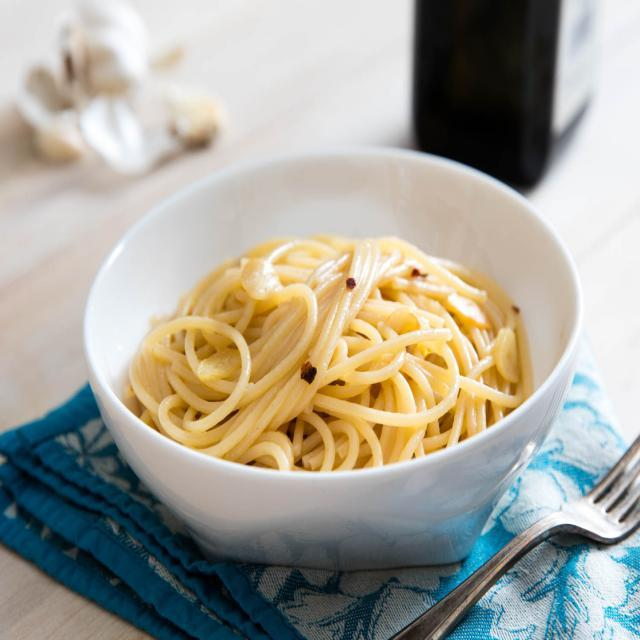Oil pasta: (75, 141, 597, 536)
